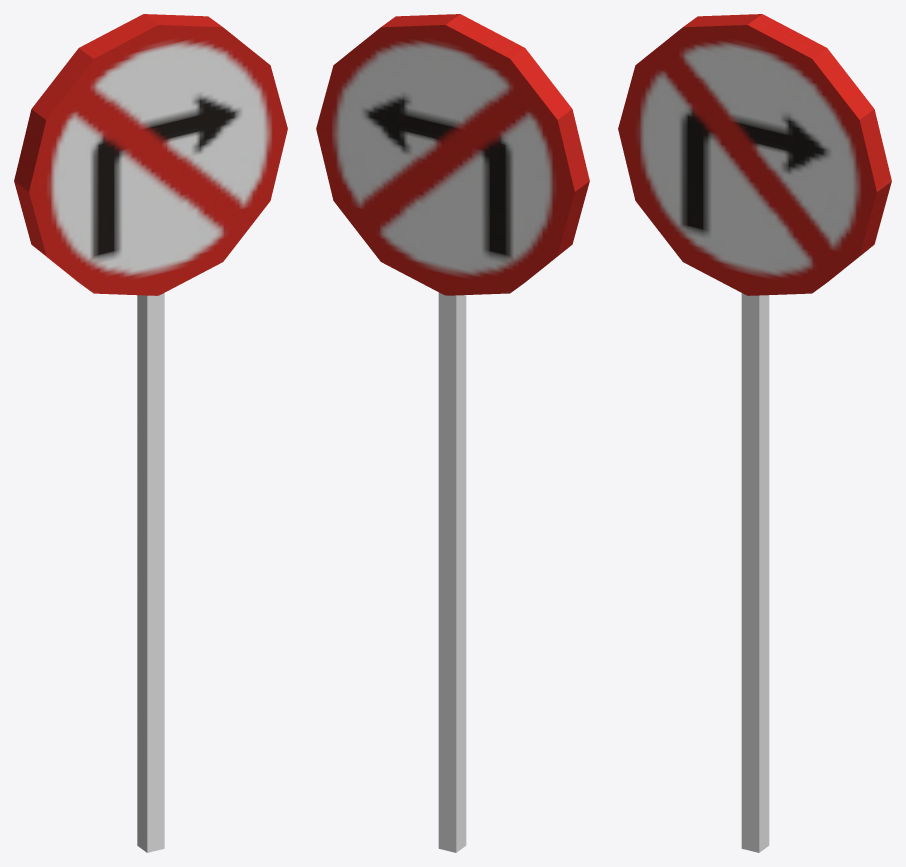
File: PlacaProibidoVirar-E.fbx
3 views of the same model, side by side, from view 1: azimuth 30°, elevation 25°; view 2: azimuth 150°, elevation 25°; view 3: azimuth 330°, elevation 25° (orthographic).
Parts seen in each view (by area): view 1: Placa-Proibido-Virar-E-1; view 2: Placa-Proibido-Virar-E-1; view 3: Placa-Proibido-Virar-E-1.
Boxes of the visible parts, <box> form: Placa-Proibido-Virar-E-1: <box>14,14,287,852</box>; Placa-Proibido-Virar-E-1: <box>316,14,589,852</box>; Placa-Proibido-Virar-E-1: <box>618,14,891,852</box>.
Bounding box in the file's own units: 0.7576 × 2.31 × 0.0758.
